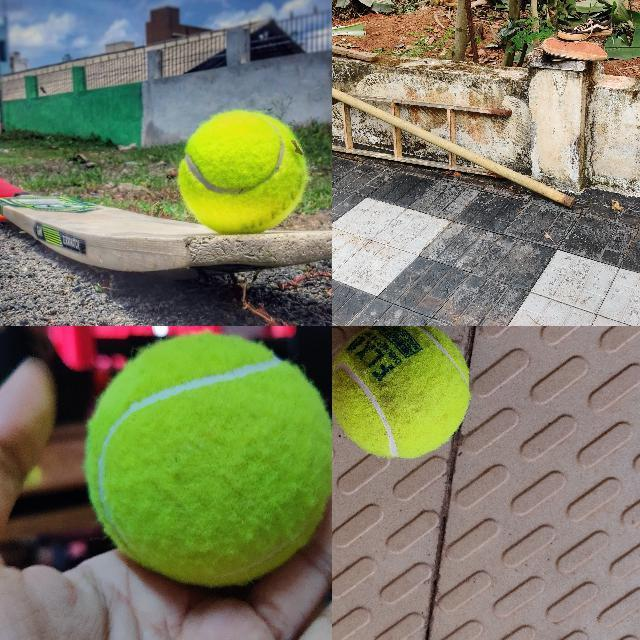tennis-ball: (84, 332, 331, 586), (332, 326, 470, 458), (178, 109, 308, 231)
